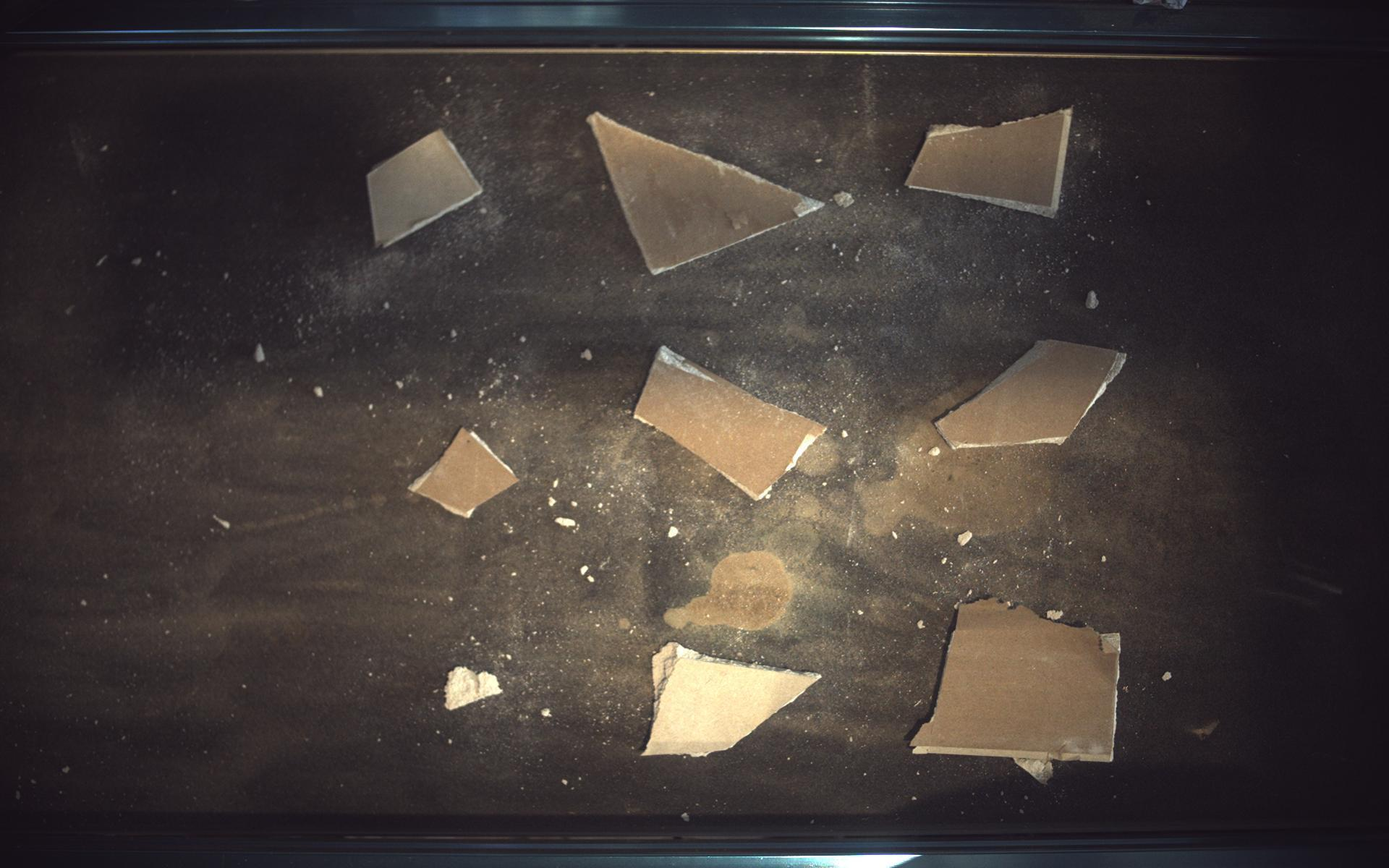gypsum_board: (913, 599, 1123, 786), (588, 111, 825, 273), (635, 345, 827, 501), (938, 339, 1129, 448), (644, 643, 823, 758), (907, 108, 1074, 217), (366, 129, 483, 247), (409, 427, 519, 519), (445, 668, 503, 711)
